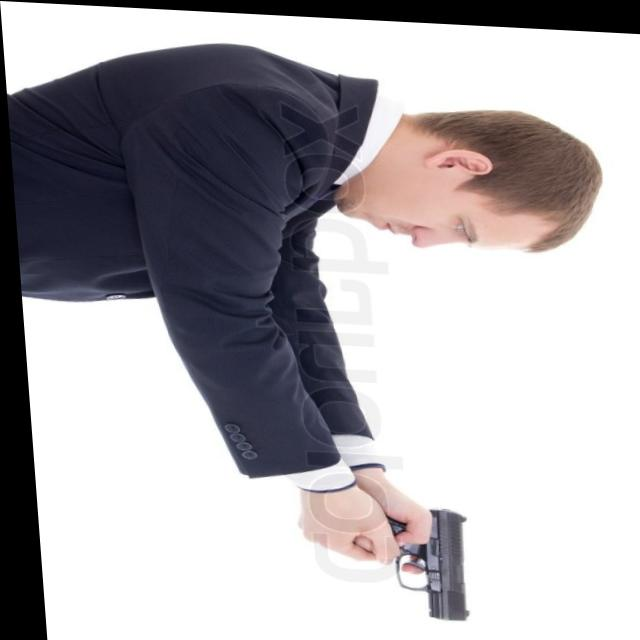handgun: (372, 500, 465, 615)
